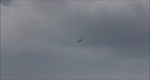maybay_muctieu: (75, 37, 84, 42)
